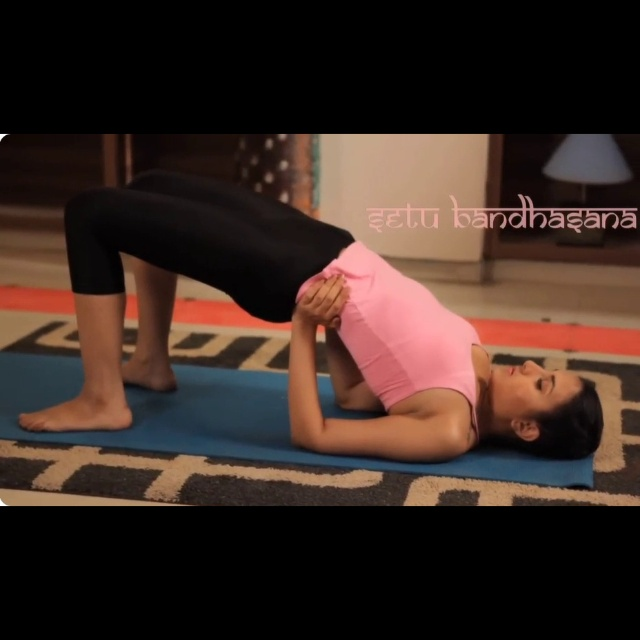Bridge_Pose: (10, 174, 612, 473)
